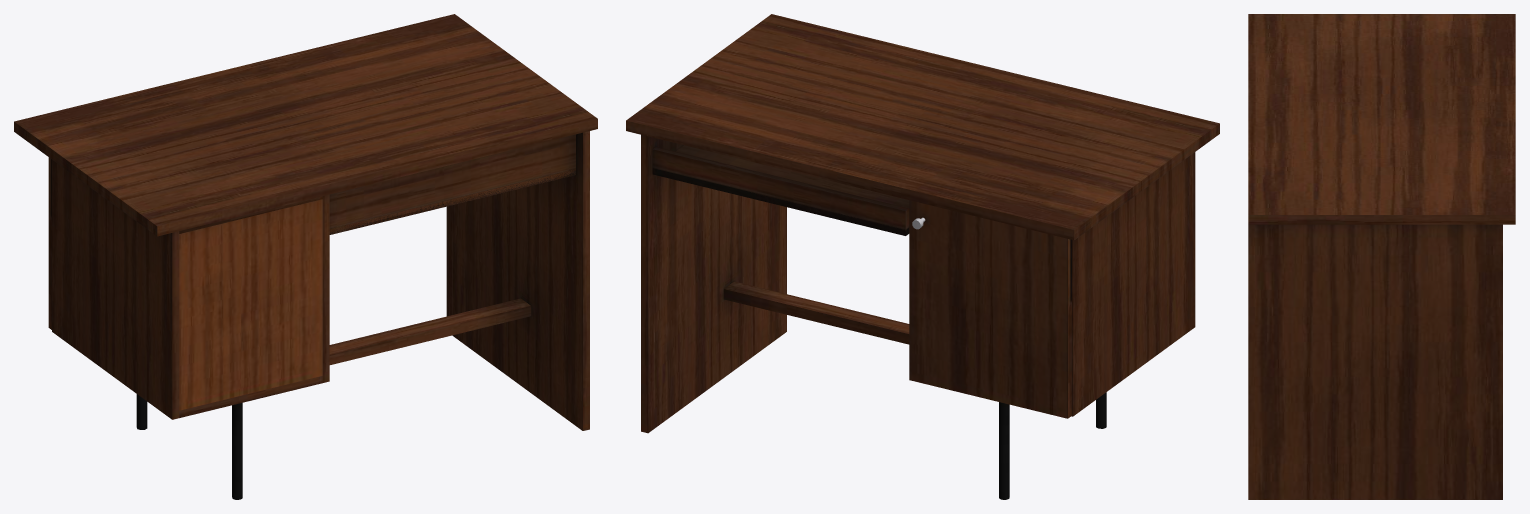
Rendered from desk_side_cabinet_web.glb.
3 renders of one model, left to right at view 1: azimuth 30°, elevation 25°; view 2: azimuth 150°, elevation 25°; view 3: azimuth 270°, elevation 25°, orthographic. The views are drawn at different scales.
Parts seen in each view (by area): view 1: DeskSideCabinet_Body, Door_1_Mesh; view 2: DeskSideCabinet_Body, Door_1_Mesh; view 3: DeskSideCabinet_Body.
Part boxes in pixels (<box>): DeskSideCabinet_Body: <box>14,14,597,499</box>; Door_1_Mesh: <box>48,157,51,329</box>; DeskSideCabinet_Body: <box>626,14,1219,499</box>; Door_1_Mesh: <box>909,200,1071,418</box>; DeskSideCabinet_Body: <box>1248,14,1515,499</box>.
Size of the model in its own units: 1.12 by 0.75 by 0.63.
Materials: 2 (2 with a texture image).
